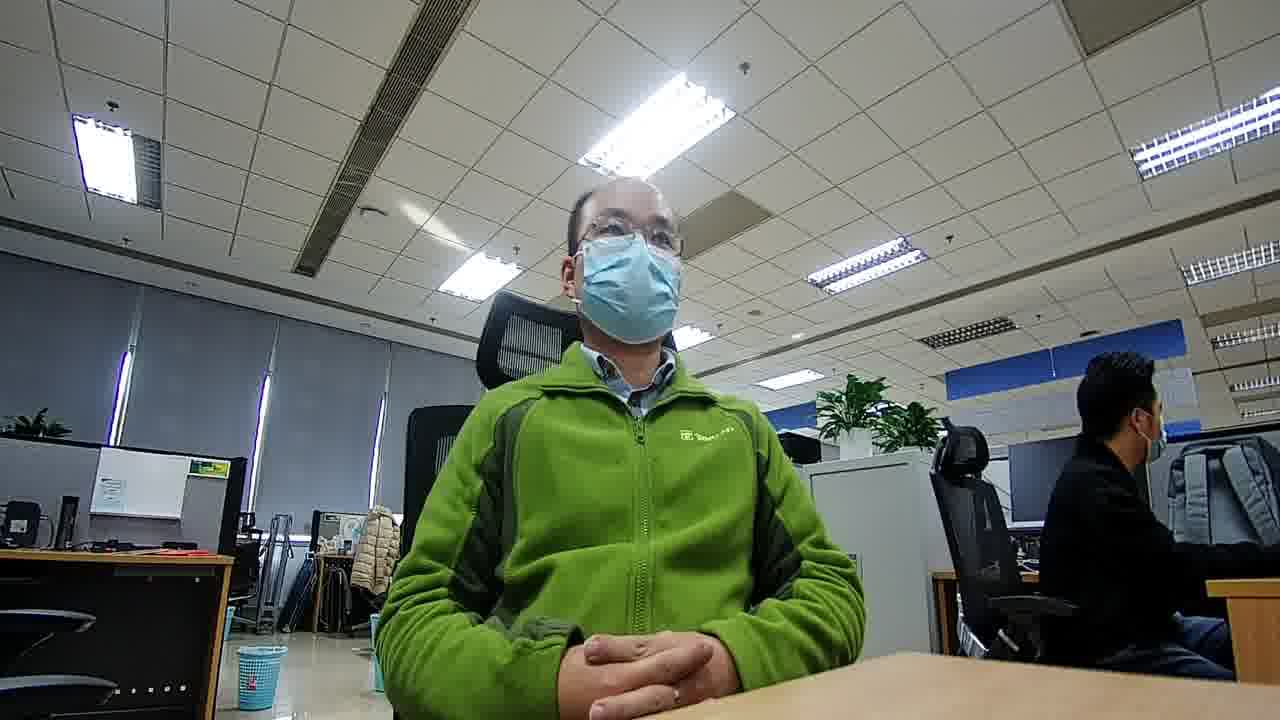face: (576, 191, 683, 344), (1141, 391, 1170, 470)
mask: (575, 233, 679, 341), (1144, 413, 1171, 462)
person: (447, 167, 779, 461), (1050, 348, 1170, 530)
